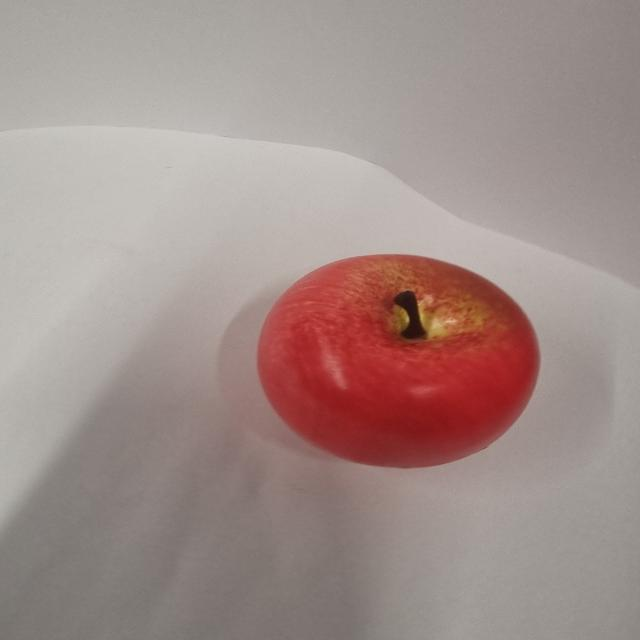apple: (256, 253, 542, 469)
